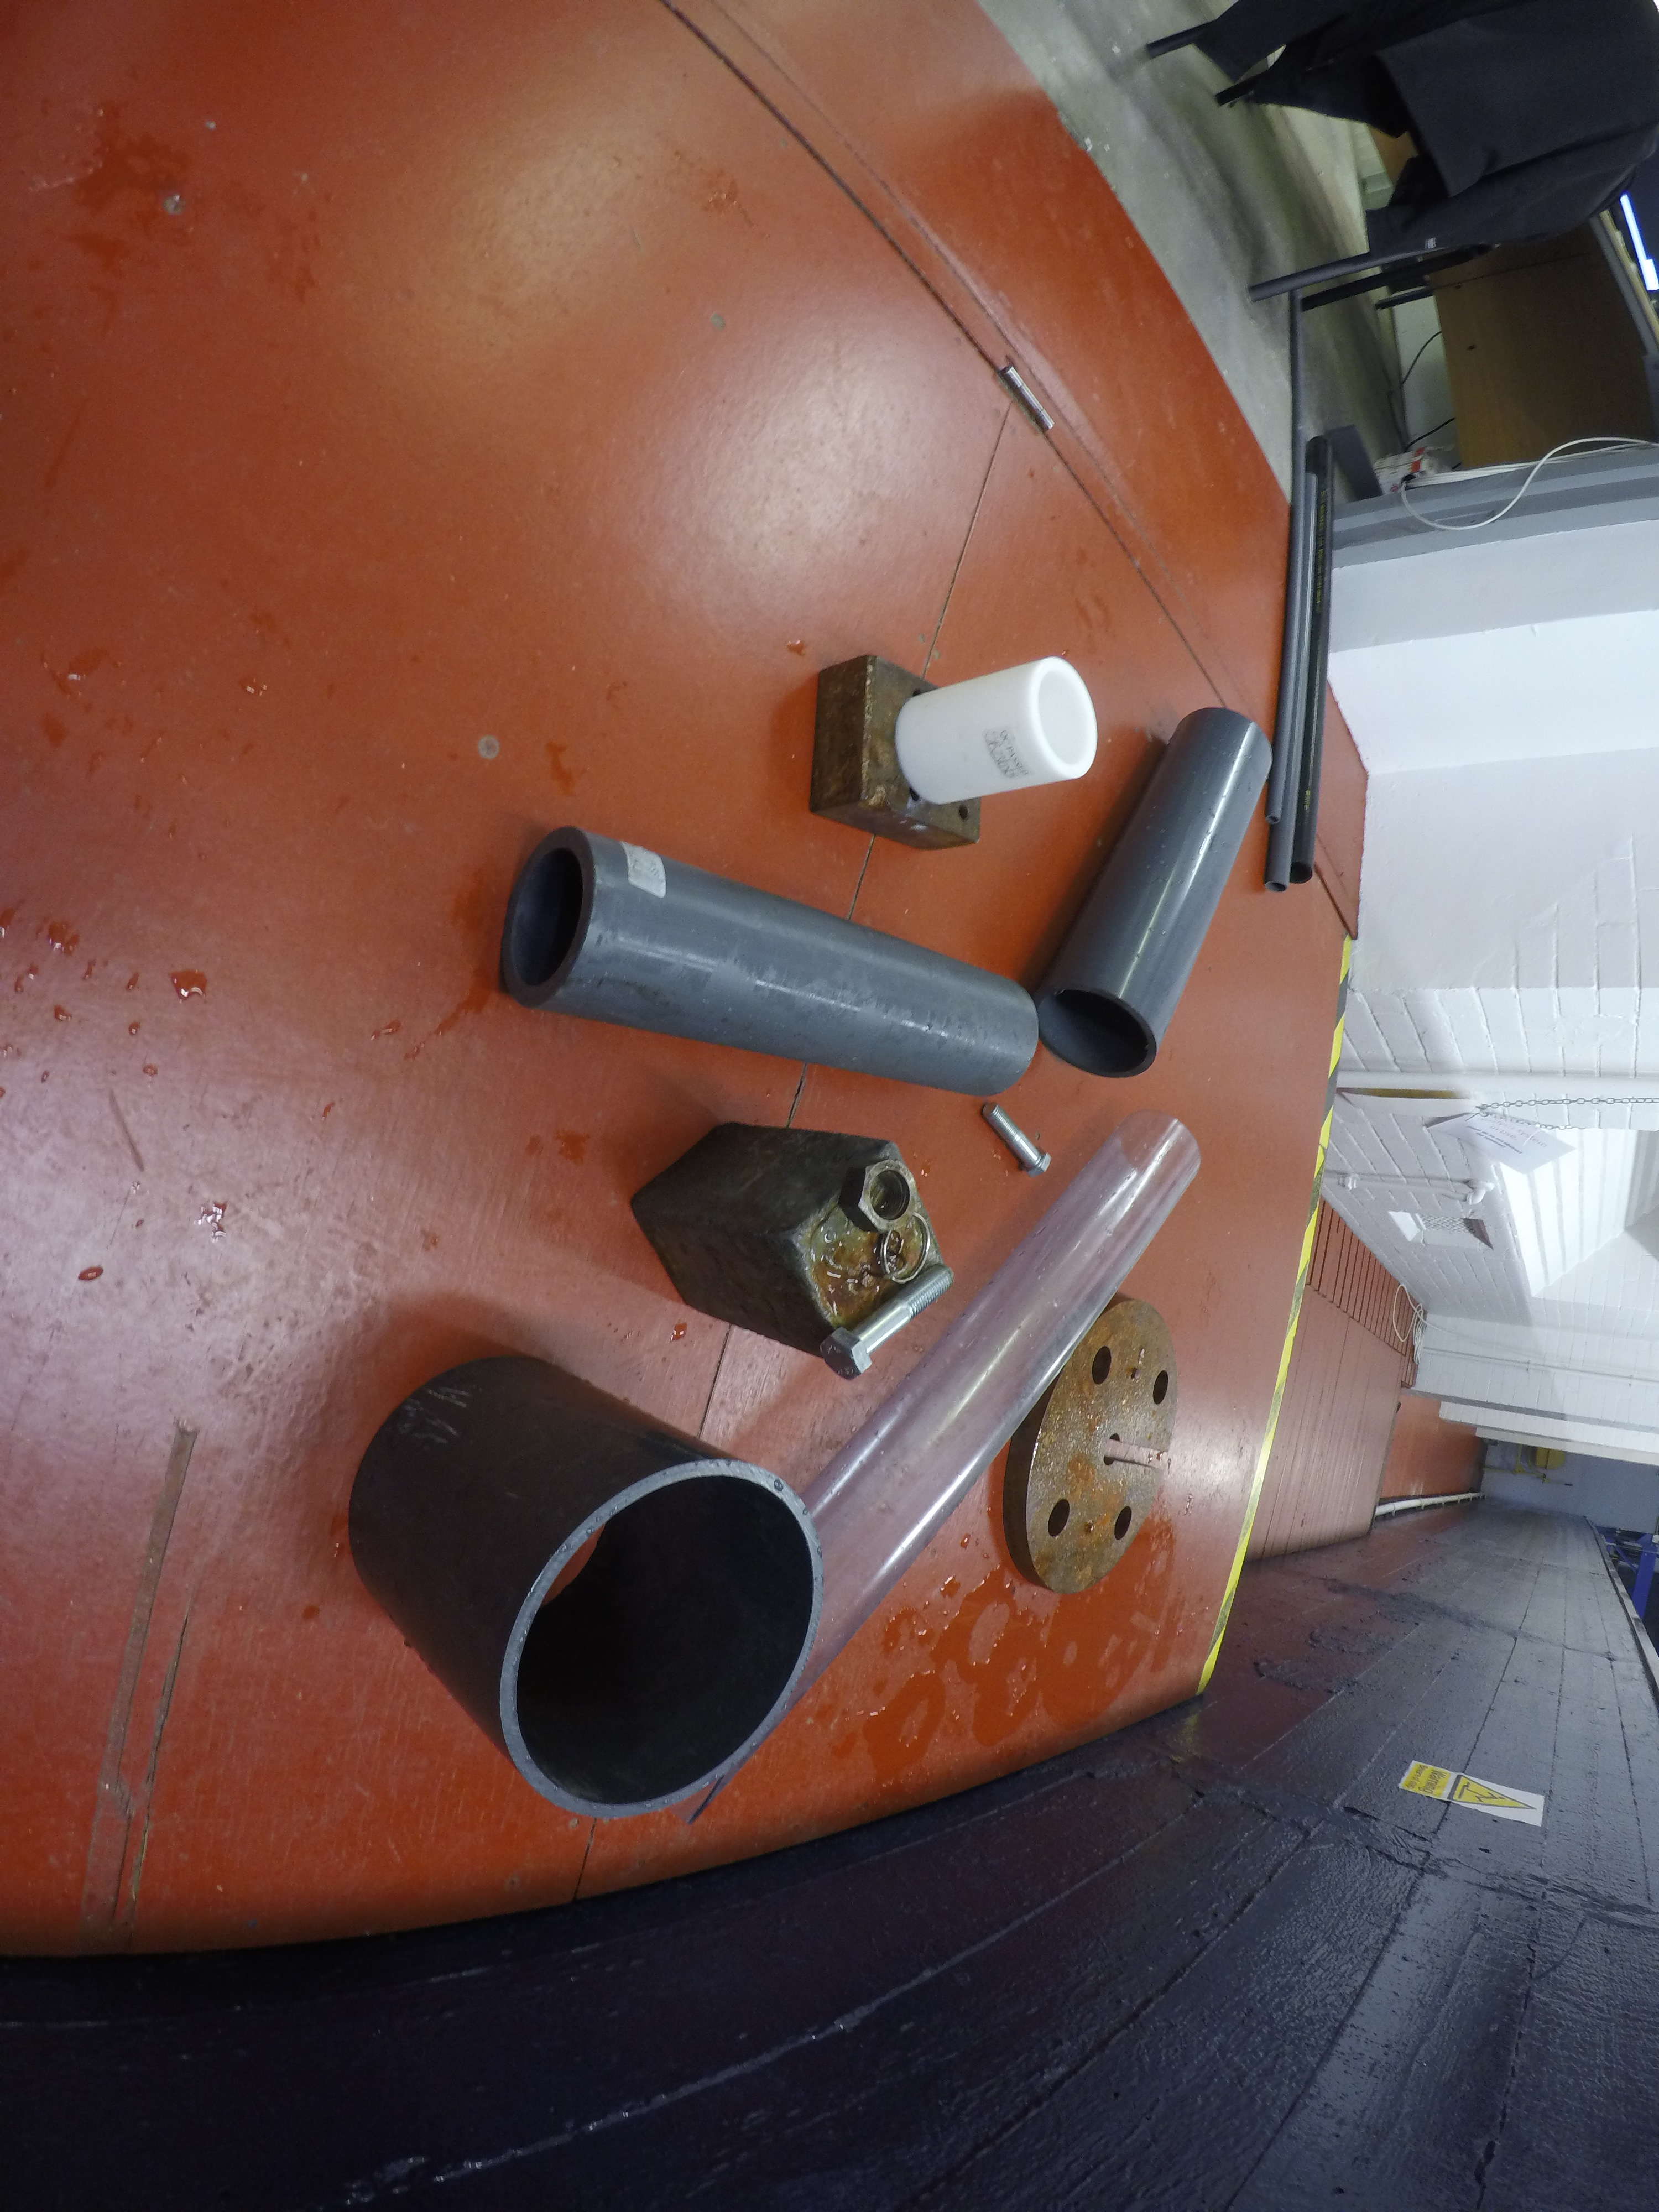bolt: (819, 1263, 957, 1383), (981, 1101, 1051, 1177)
flange: (1002, 1296, 1176, 1590)
led_block: (629, 1122, 951, 1353), (809, 653, 985, 850)
nut: (836, 1157, 920, 1233)
pipe: (673, 1111, 1201, 1658), (340, 1348, 819, 1818), (498, 827, 1037, 1094), (1035, 707, 1274, 1080), (896, 655, 1100, 806), (1265, 472, 1319, 892), (1265, 289, 1302, 826), (1295, 435, 1335, 887)
